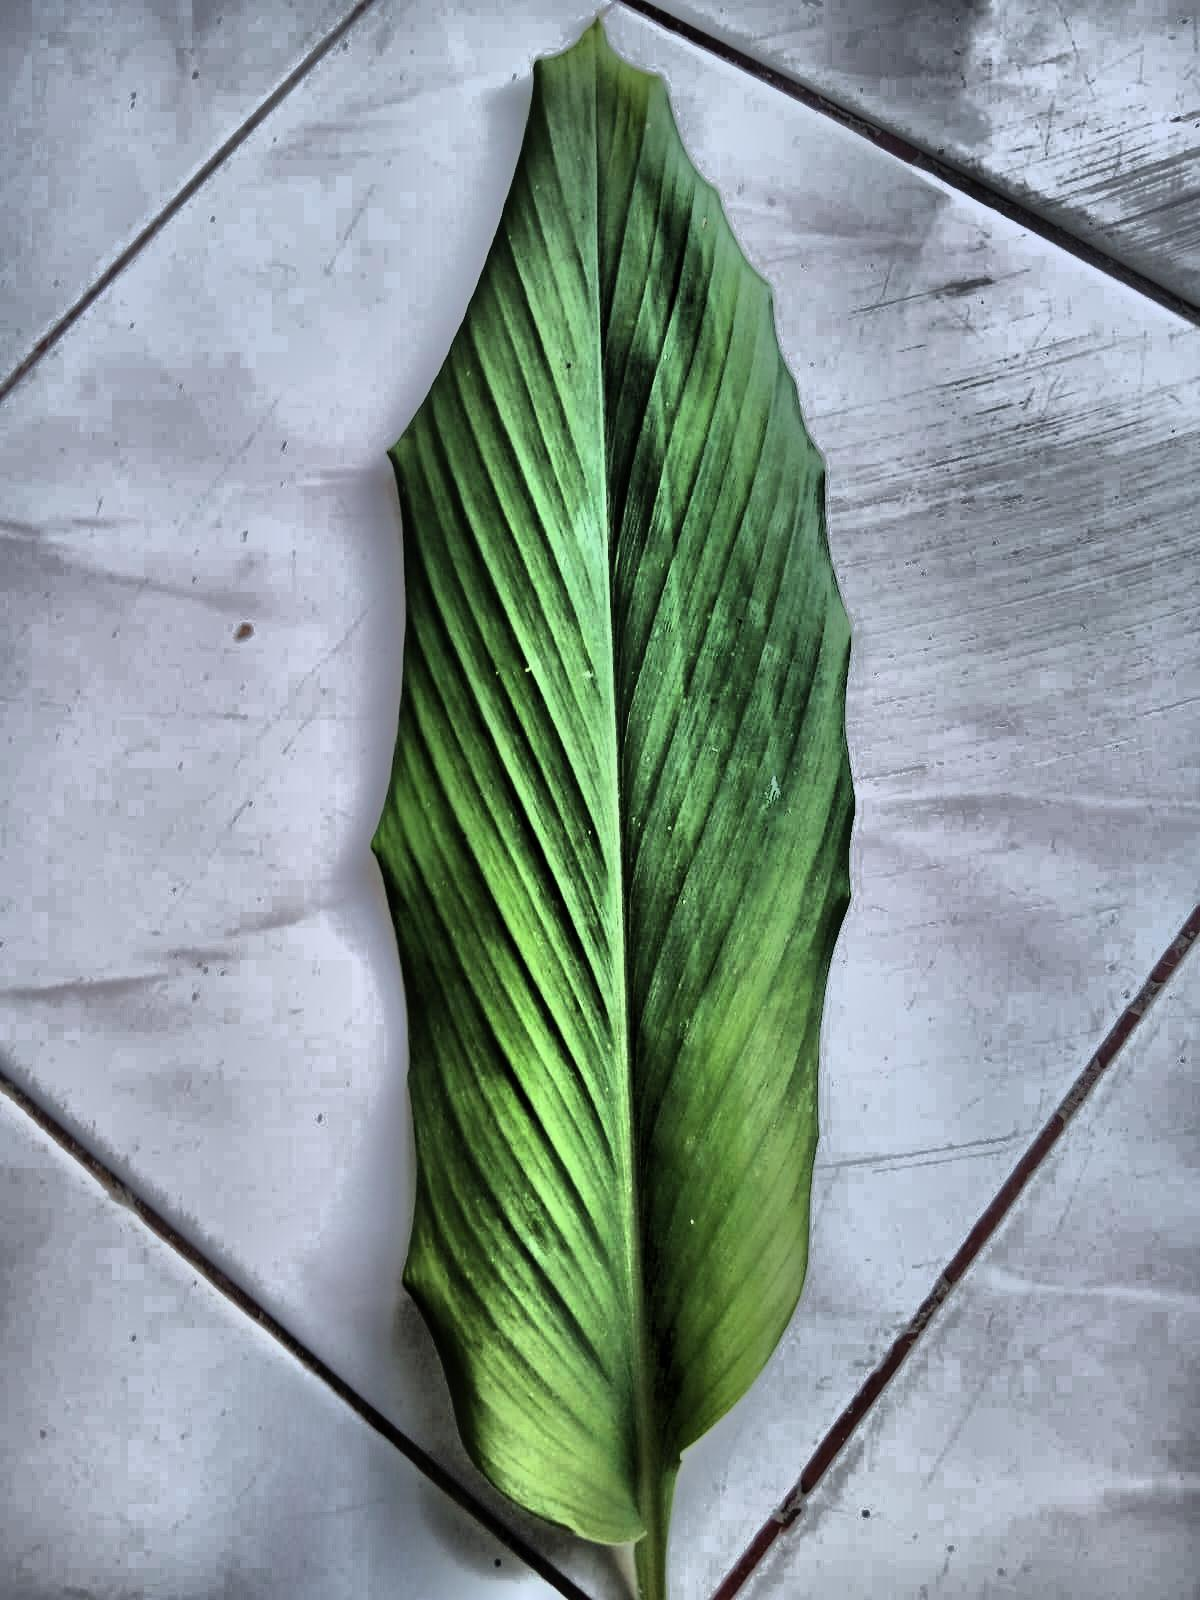daun kunyit: (372, 21, 855, 1599)
